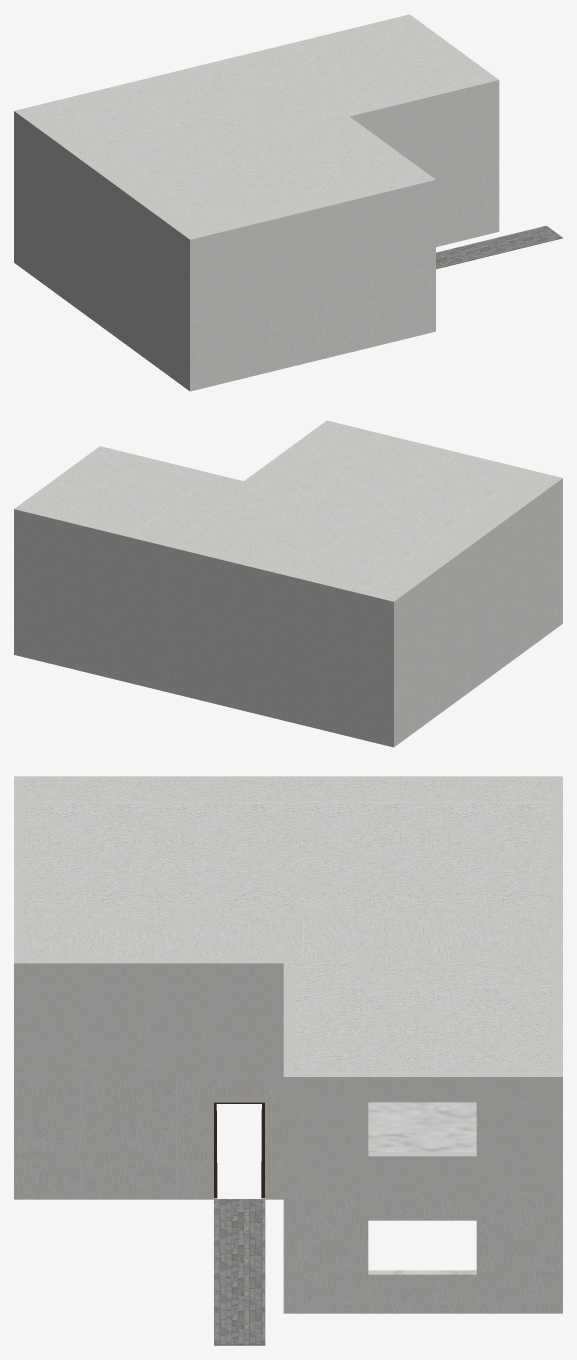
Rendered from opacos.fbx.
The picture shows the model from 3 angles, top to bottom: view 1: azimuth 30°, elevation 25°; view 2: azimuth 150°, elevation 25°; view 3: azimuth 270°, elevation 25°; orthographic projection. The views are drawn at different scales.
Visible parts, largest first — view 1: P2_techo, P2_pared, PB_Pared, Banqueta; view 2: P2_techo, P2_pared, PB_Pared; view 3: P2_techo, P2_pared, PB_Pared, Banqueta, PB_techo, MarcoPuertaPrincipal.
Boxes of the visible parts, left/top/right/bottom form: P2_techo: left=23, top=18, right=489, bottom=235; P2_pared: left=14, top=14, right=499, bottom=315; PB_Pared: left=14, top=156, right=499, bottom=391; Banqueta: left=436, top=225, right=562, bottom=269; P2_techo: left=22, top=424, right=553, bottom=598; P2_pared: left=14, top=420, right=562, bottom=674; PB_Pared: left=14, top=551, right=562, bottom=747; P2_techo: left=24, top=780, right=552, bottom=1072; P2_pared: left=14, top=776, right=562, bottom=1195; PB_Pared: left=14, top=1081, right=562, bottom=1313; Banqueta: left=214, top=1199, right=265, bottom=1345; PB_techo: left=368, top=1102, right=476, bottom=1152; MarcoPuertaPrincipal: left=214, top=1102, right=264, bottom=1198.
Size of what is drawn, in the model's own units: 1818 by 605 by 1269.
